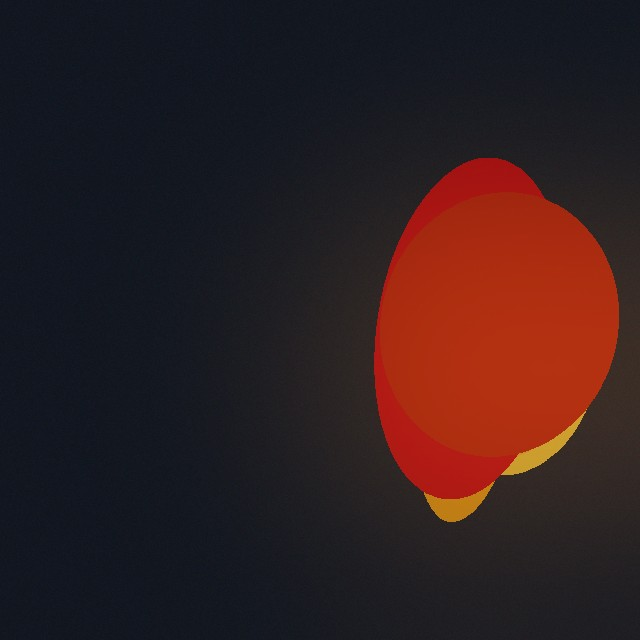fire: (369, 239, 603, 497)
